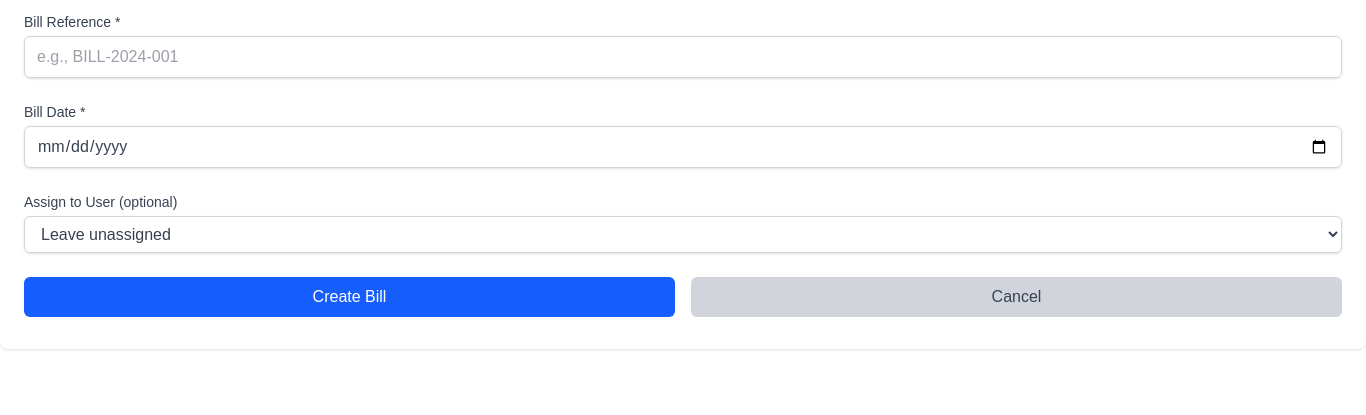
Test: BillForm › disables submit button while creating bill
Type "BILL-TEST-001" into the field with test id "bill-reference-input" at (683, 57), box [24, 36, 1342, 78]
Wait 500 ms
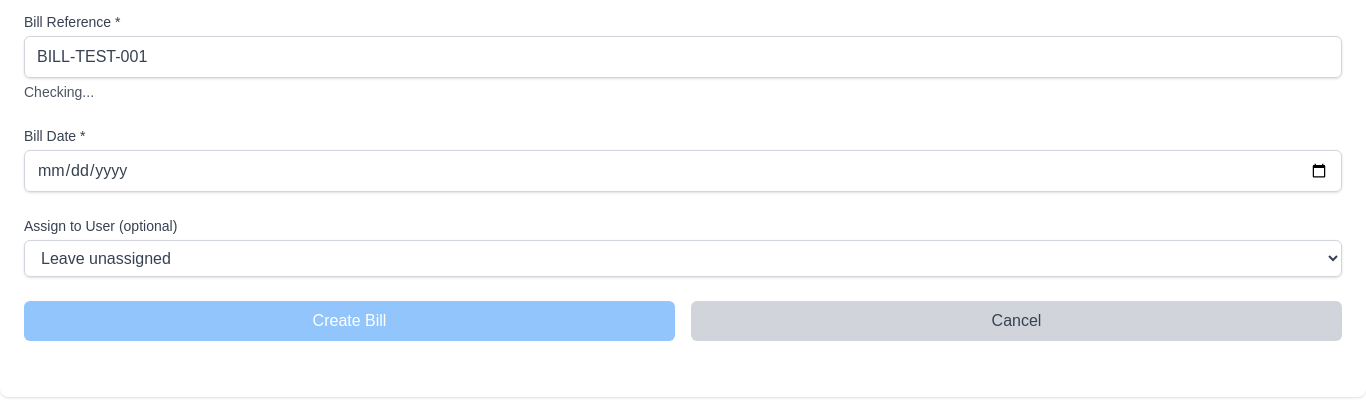
Type "2024-01-01" into the date field with test id "bill-date-input" at (683, 171), box [24, 150, 1342, 192]
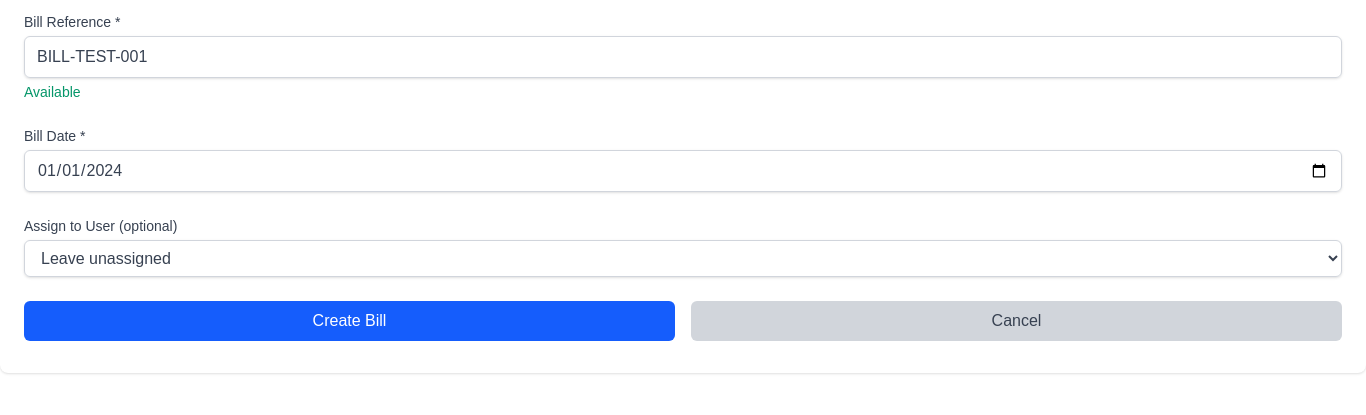
Click the button with test id "submit-button" at (350, 321), box [24, 301, 675, 341]
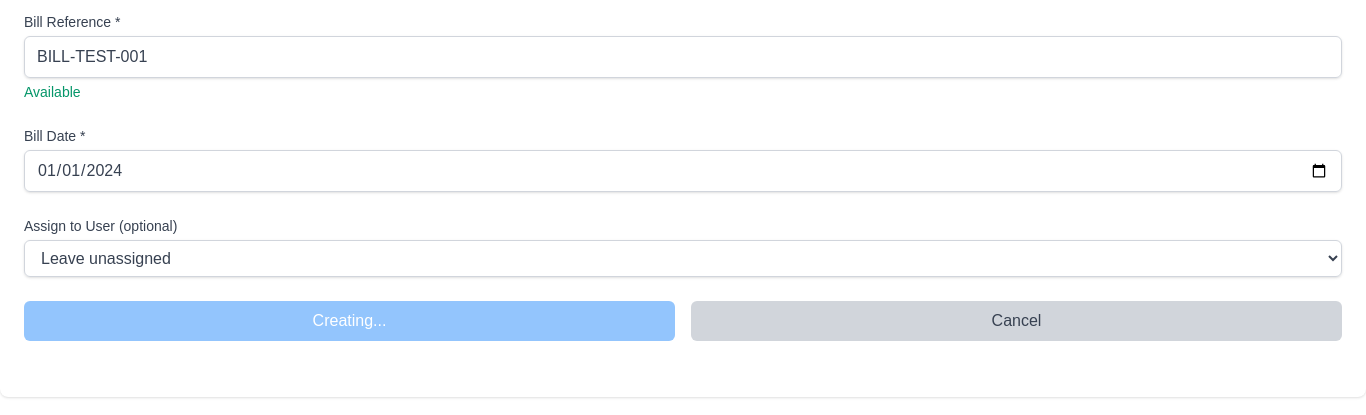
Result: the button with test id "submit-button" reads "Creating..." at [24, 301, 675, 341]
Result: the button with test id "submit-button" is disabled at [24, 301, 675, 341]
